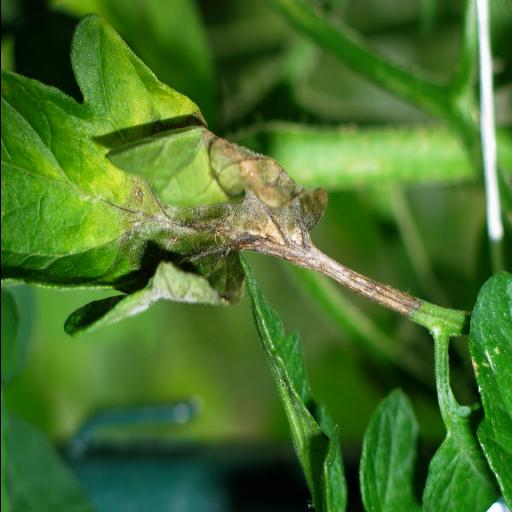disease_tomato: (0, 7, 342, 331)
